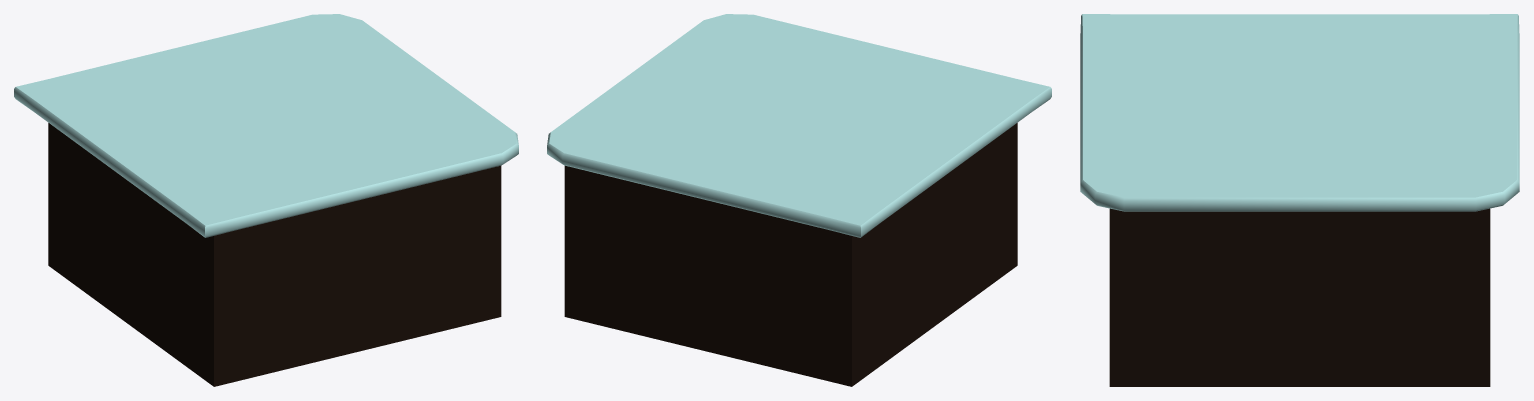
Rendered from wall Counter 2.obj.
3 renders of one model, left to right at view 1: azimuth 30°, elevation 25°; view 2: azimuth 150°, elevation 25°; view 3: azimuth 270°, elevation 25°, orthographic. The views are drawn at different scales.
Visible parts, largest first — view 1: Cube, Cube.001; view 2: Cube, Cube.001; view 3: Cube.001, Cube.
Boxes of the visible parts, x1=… form: Cube: x1=48, y1=123, x2=501, y2=386; Cube.001: x1=14, y1=14, x2=518, y2=237; Cube: x1=564, y1=123, x2=1017, y2=386; Cube.001: x1=547, y1=14, x2=1051, y2=237; Cube.001: x1=1080, y1=14, x2=1519, y2=211; Cube: x1=1109, y1=208, x2=1490, y2=386.
Size of the model in its own units: 2.31 by 1.16 by 2.31.
